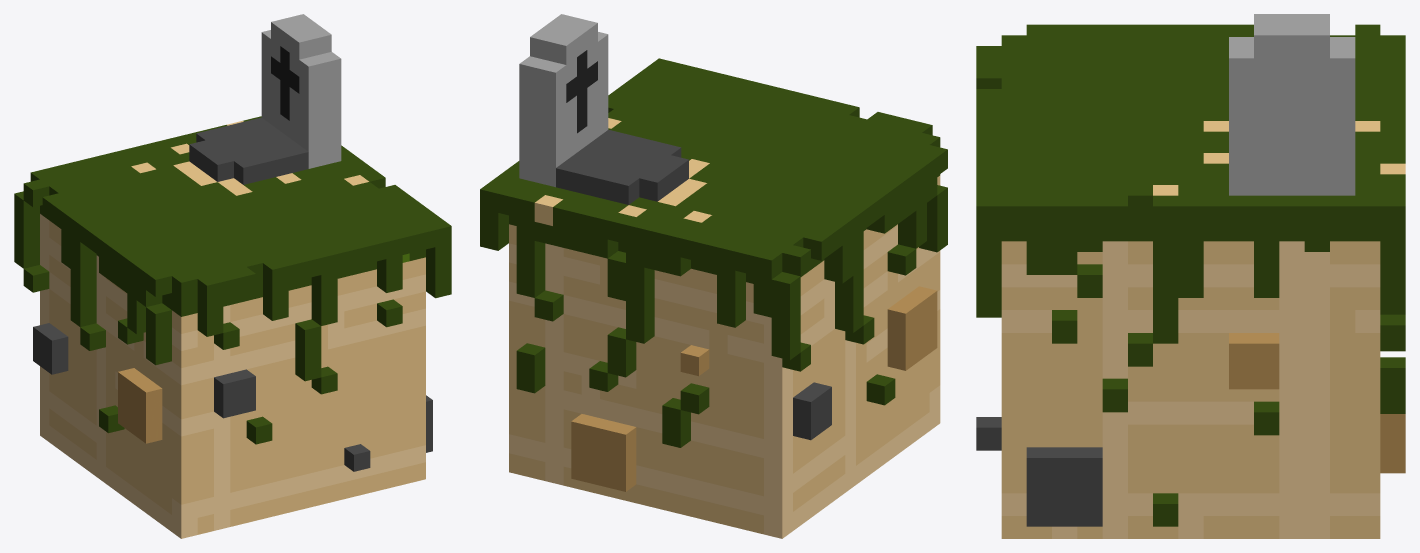
Rendered from Tile06.obj.
The picture shows the model from 3 angles, left to right: view 1: azimuth 30°, elevation 25°; view 2: azimuth 150°, elevation 25°; view 3: azimuth 270°, elevation 25°; orthographic projection. The views are drawn at different scales.
Size of the model in its own units: 1.7 by 2.2 by 1.7.
1 material, 1 textured.
